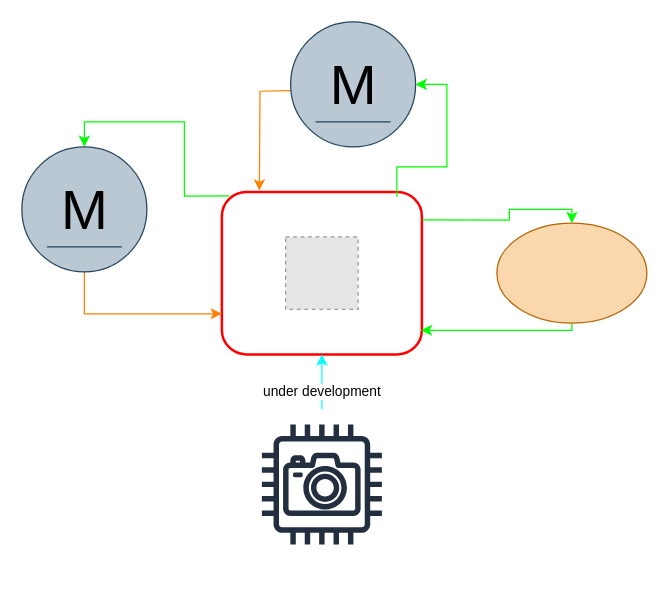
Some shapes in this 669 by 608 pixel diagram are drawn without their labels. Grey dashed boxes stand in for pictures. Each missing label, with the centre of its shape:
"Pi Camera" goes at (321,483).
"Servo Motor" goes at (571,272).
